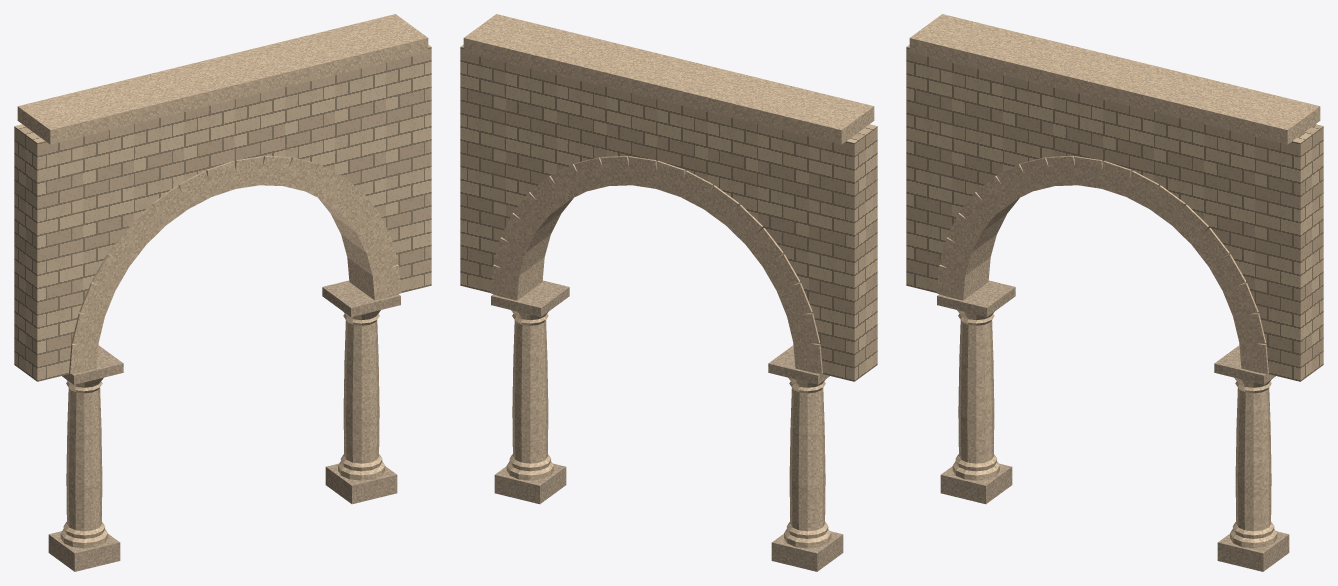
The model's file is column_arch.glb.
3 views of the same model, side by side, from view 1: azimuth 30°, elevation 25°; view 2: azimuth 150°, elevation 25°; view 3: azimuth 330°, elevation 25° (orthographic).
Parts seen in each view (by area): view 1: ColumnArch; view 2: ColumnArch; view 3: ColumnArch.
Boxes of the visible parts, x1,y1,x2,y2 form: ColumnArch: (14, 14, 431, 571); ColumnArch: (460, 14, 877, 571); ColumnArch: (906, 14, 1323, 571).
Size of the model in its own units: 6.26 by 6.84 by 0.9.
Materials: 3 (3 with a texture image).
